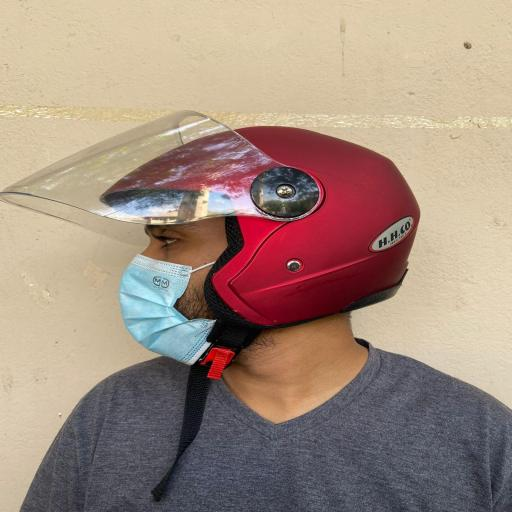with helmet: (0, 109, 422, 330)
